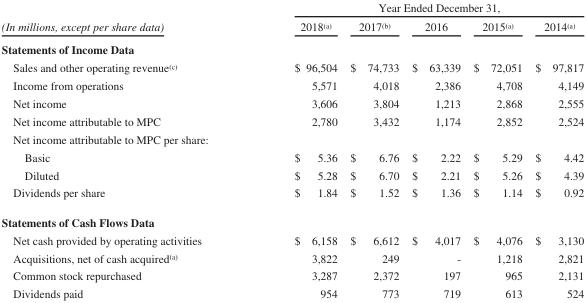table: (0, 0, 583, 299)
table column: (0, 0, 247, 299), (247, 0, 343, 299), (404, 0, 466, 299), (466, 0, 528, 299), (343, 0, 404, 299), (528, 0, 583, 299)
table column header: (0, 0, 583, 37)
table projected row header: (0, 207, 583, 230), (0, 37, 583, 58), (0, 129, 583, 147)
table row: (0, 183, 583, 207), (0, 207, 583, 230), (0, 16, 583, 37), (0, 37, 583, 58), (0, 58, 583, 76), (0, 76, 583, 94), (0, 94, 583, 112), (0, 129, 583, 147), (0, 147, 583, 165), (0, 165, 583, 183), (0, 230, 583, 248), (0, 248, 583, 266), (0, 266, 583, 284), (0, 112, 583, 129), (0, 0, 583, 16), (0, 284, 583, 299)
table spanning cell: (0, 0, 247, 37), (247, 0, 583, 16)
